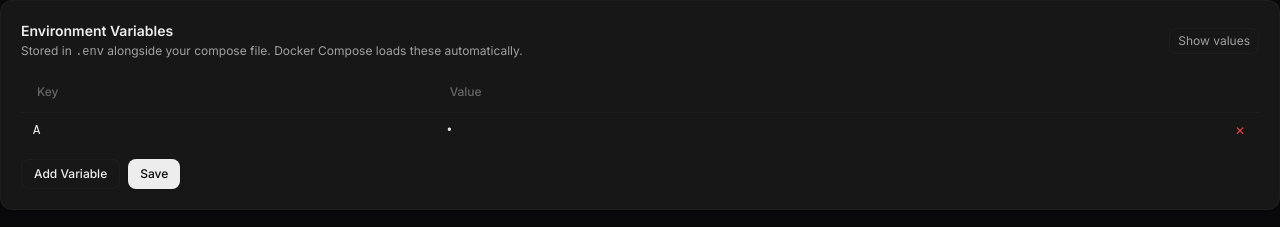
Test: EnvEditor › toggles value visibility (password <-> text)
Expected: the field showing "A" is shown, [29, 121, 426, 141]
Click the button "Show values".
click(1214, 40)  # box [1169, 28, 1259, 54]
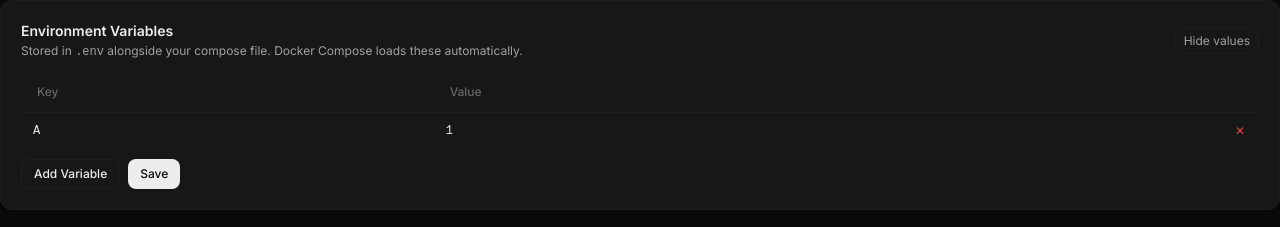
Expected: the 2nd field shows its text, [442, 121, 1219, 141]
